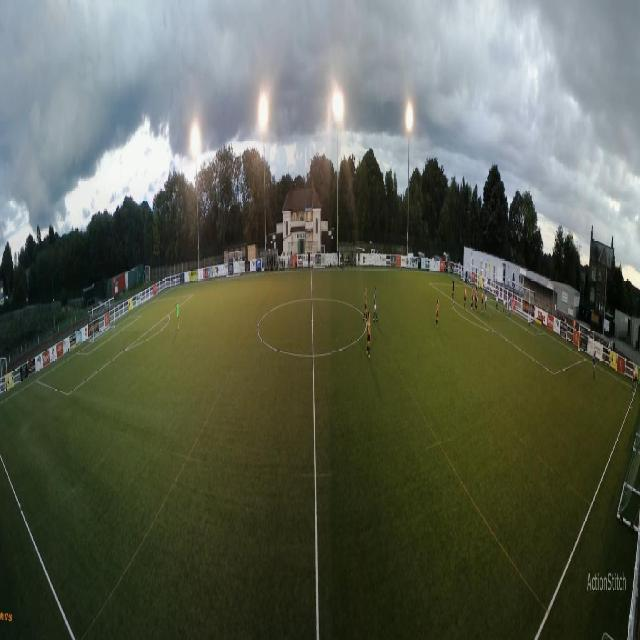ball: (635, 387, 636, 392)
player: (367, 309, 371, 360), (374, 285, 379, 323), (175, 299, 180, 330), (592, 347, 596, 377), (436, 293, 439, 331), (464, 282, 467, 309), (452, 276, 455, 298), (513, 294, 516, 315), (365, 285, 367, 316), (633, 367, 635, 395), (482, 288, 484, 314), (485, 284, 487, 309), (504, 290, 506, 314), (529, 305, 531, 329), (476, 284, 477, 311), (477, 287, 478, 313), (472, 286, 473, 308), (497, 288, 498, 310), (510, 296, 511, 318), (473, 287, 474, 307), (509, 291, 510, 303)
